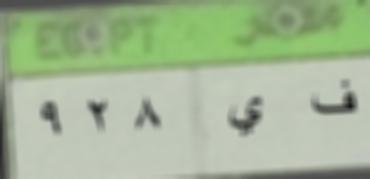2: (80, 96, 117, 136)
8: (132, 91, 160, 136)
9: (36, 98, 66, 140)
faa: (308, 73, 358, 121)
yaa: (222, 91, 268, 137)
